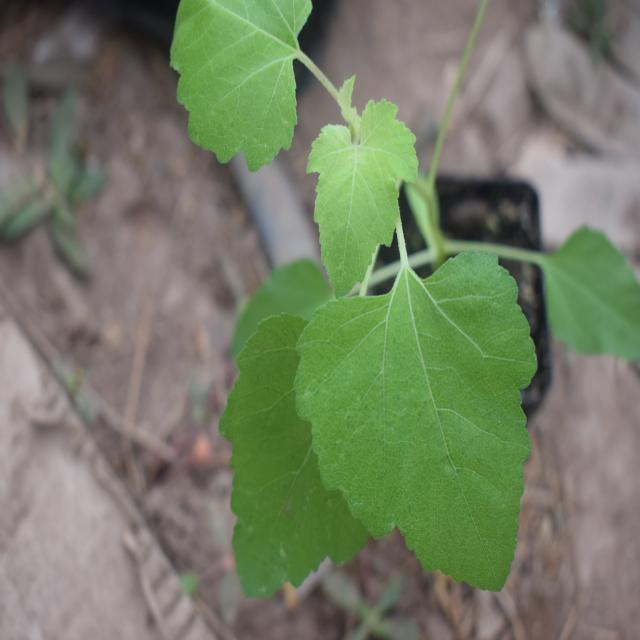cocklebur: (155, 2, 533, 592)
